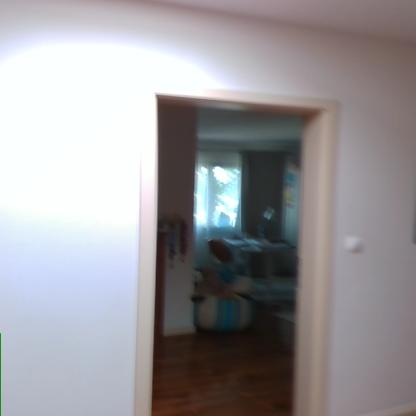open: (127, 77, 351, 415)
